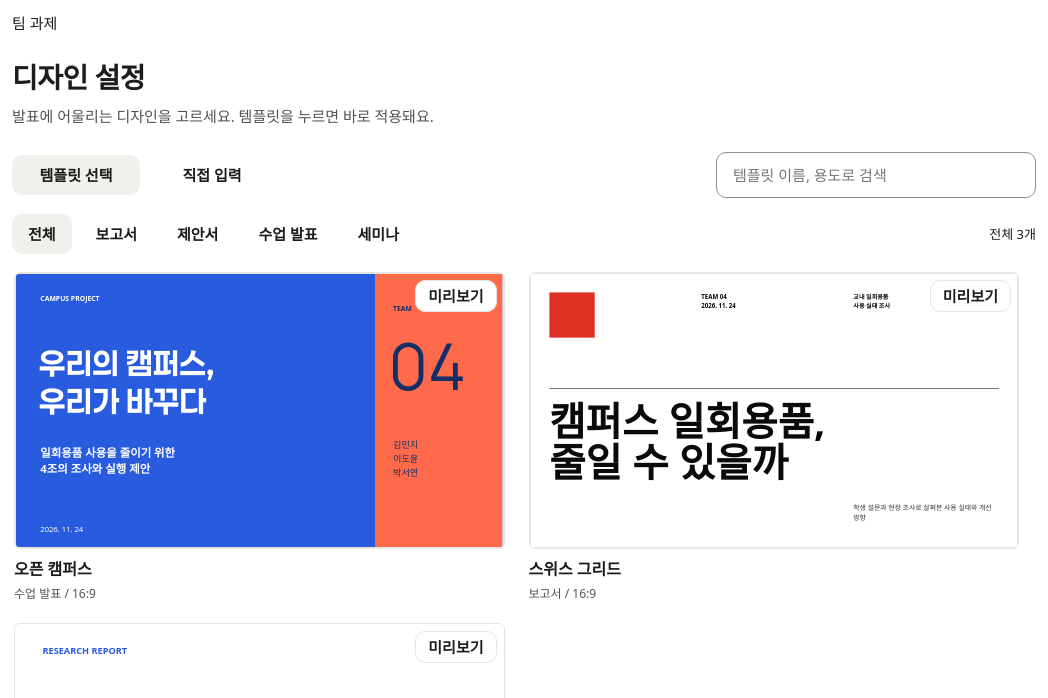
Test: Slide Layouts 계열 템플릿은 피그마 표지로 보이고 용도 분류로 찾는다
The width and height of the screenshot is (1048, 698).
Expected: the text "교내 일회용품 사용 실태 조사" is shown, [853,293,890,310]
Expected: the text "보고서 / 16:9" is shown, [528,585,596,602]
Click the button "제안서" at (198, 234), box [161,214,234,254]
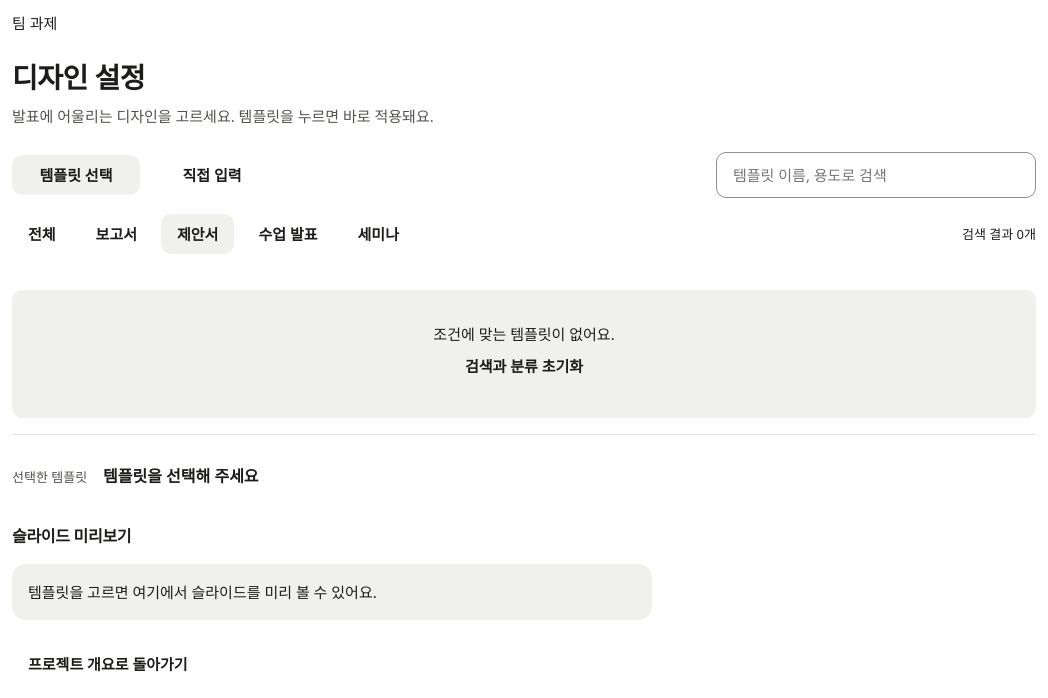
Click the button "보고서" at (116, 234), box [80,214,153,254]
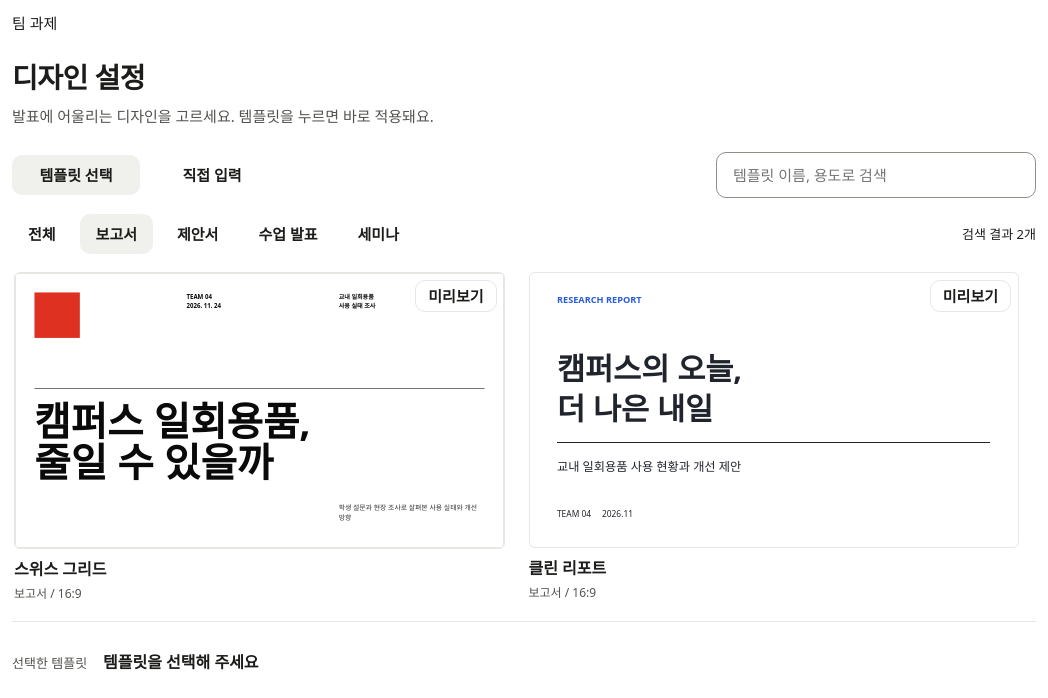
Expected: the button with aria-label "스위스 그리드 선택" is shown, [14,272,504,603]
